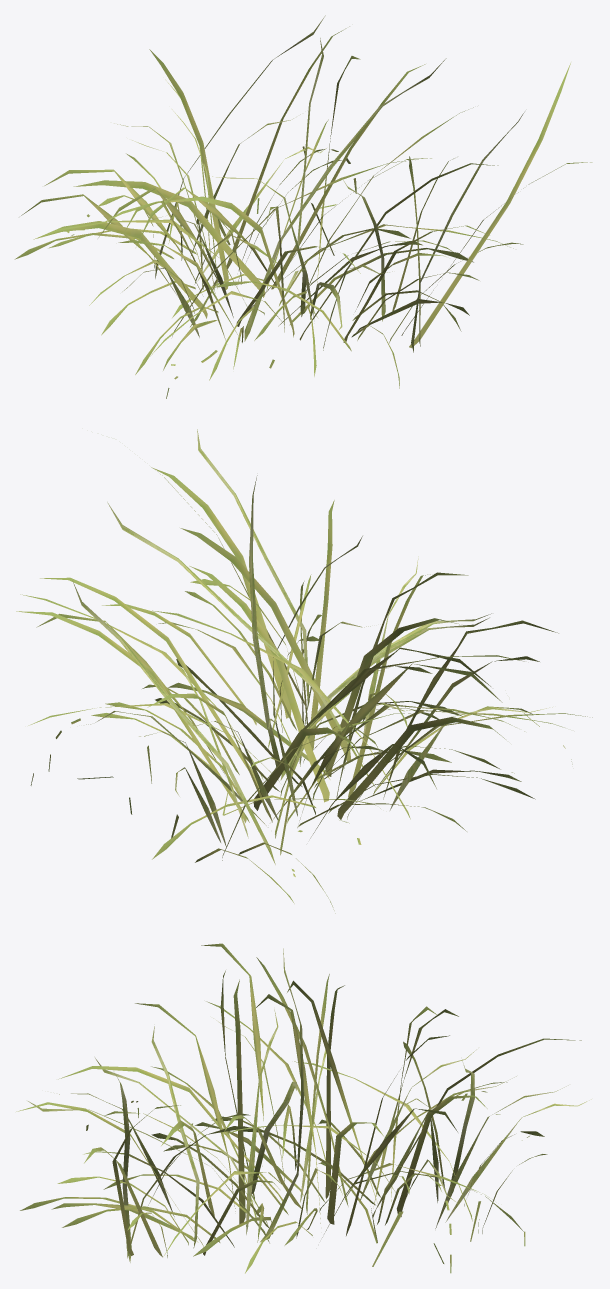
The model's file is grass_meadow_lod0.glb.
3 renders of one model, top to bottom at view 1: azimuth 30°, elevation 25°; view 2: azimuth 150°, elevation 25°; view 3: azimuth 270°, elevation 25°, orthographic. The views are drawn at different scales.
Parts seen in each view (by area): view 1: bq_Grass_Bromus-erectus_A_winter; view 2: bq_Grass_Bromus-erectus_A_winter; view 3: bq_Grass_Bromus-erectus_A_winter.
Part boxes in pixels (<box>): bq_Grass_Bromus-erectus_A_winter: <box>14,15,592,398</box>; bq_Grass_Bromus-erectus_A_winter: <box>16,429,592,913</box>; bq_Grass_Bromus-erectus_A_winter: <box>16,943,591,1273</box>.
Bounding box in the file's own units: 0.8783 × 0.494 × 0.8383.
Materials: 1 (1 with a texture image).
